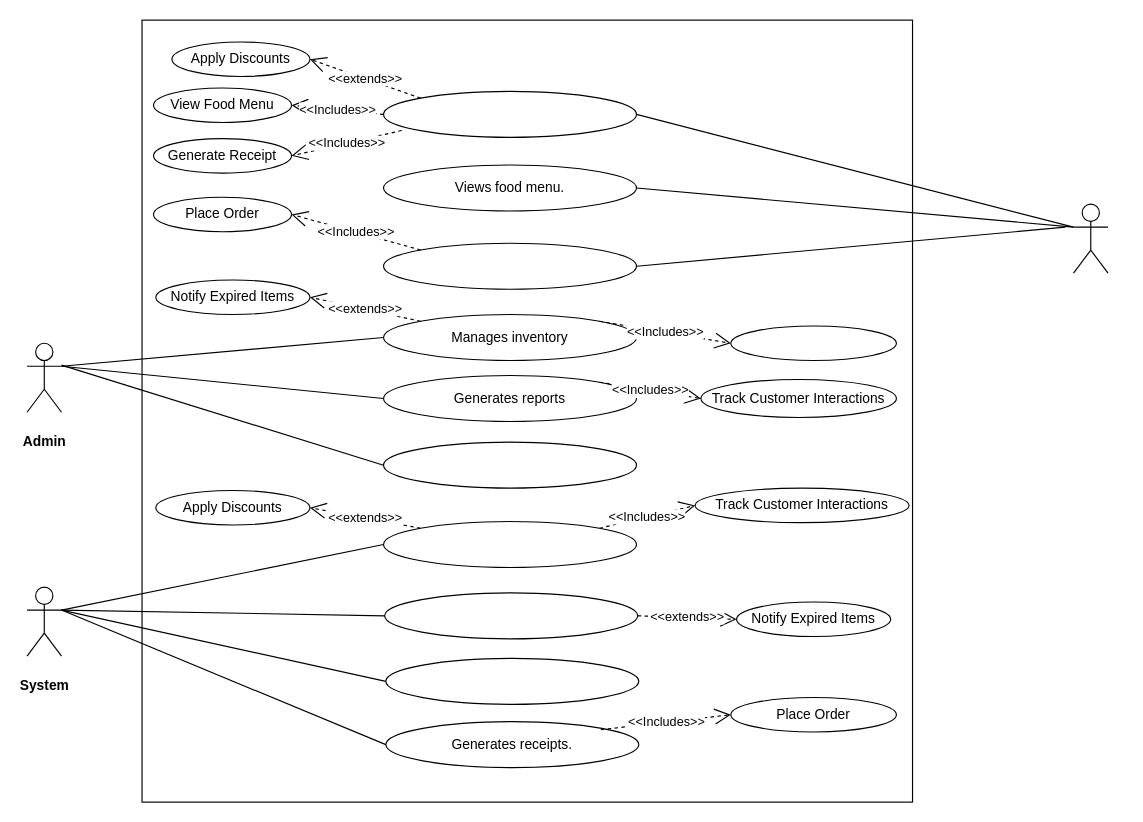
The diagram is 1143 pixels wide and 822 high, and some of its shapes have lost their labels. The centre of each missing label's shape, as x and y in pixels:
"Customer" belongs at point 1090,238.
"Issues notifications for expired items." belongs at point 512,680.
"Places orders." belongs at point 509,113.
"Processes orders." belongs at point 509,544.
"Receives receipts." belongs at point 509,265.
"Track Food Expiration" belongs at point 813,343.
"Tracks customer interactions." belongs at point 509,464.
"Tracks food expiration." belongs at point 511,615.
